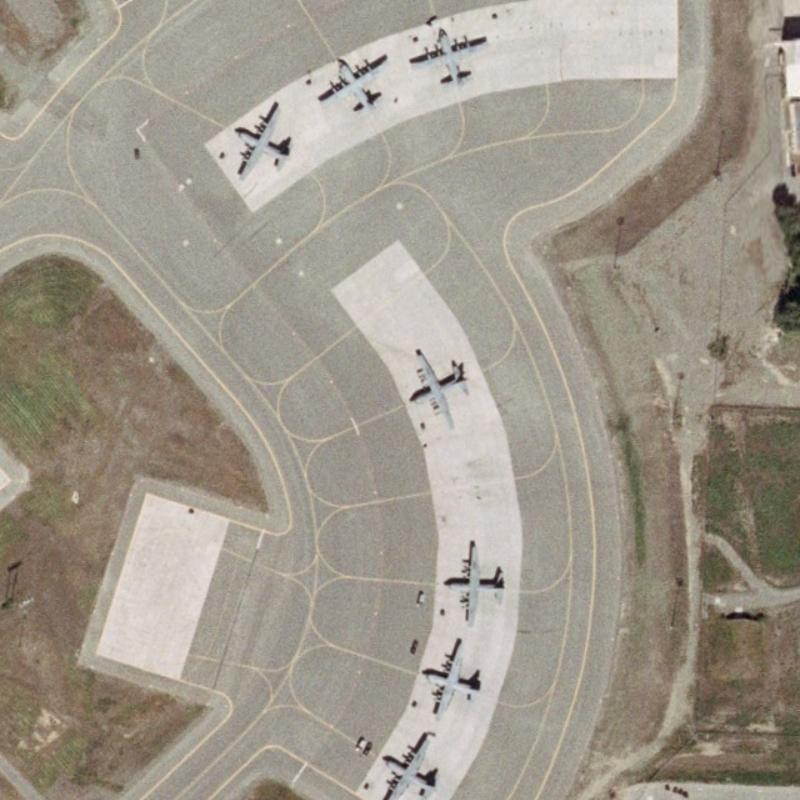A2: (220, 87, 298, 186), (436, 532, 514, 631), (398, 338, 478, 434), (400, 16, 494, 93), (413, 631, 486, 723), (313, 43, 393, 120), (369, 726, 448, 799)
